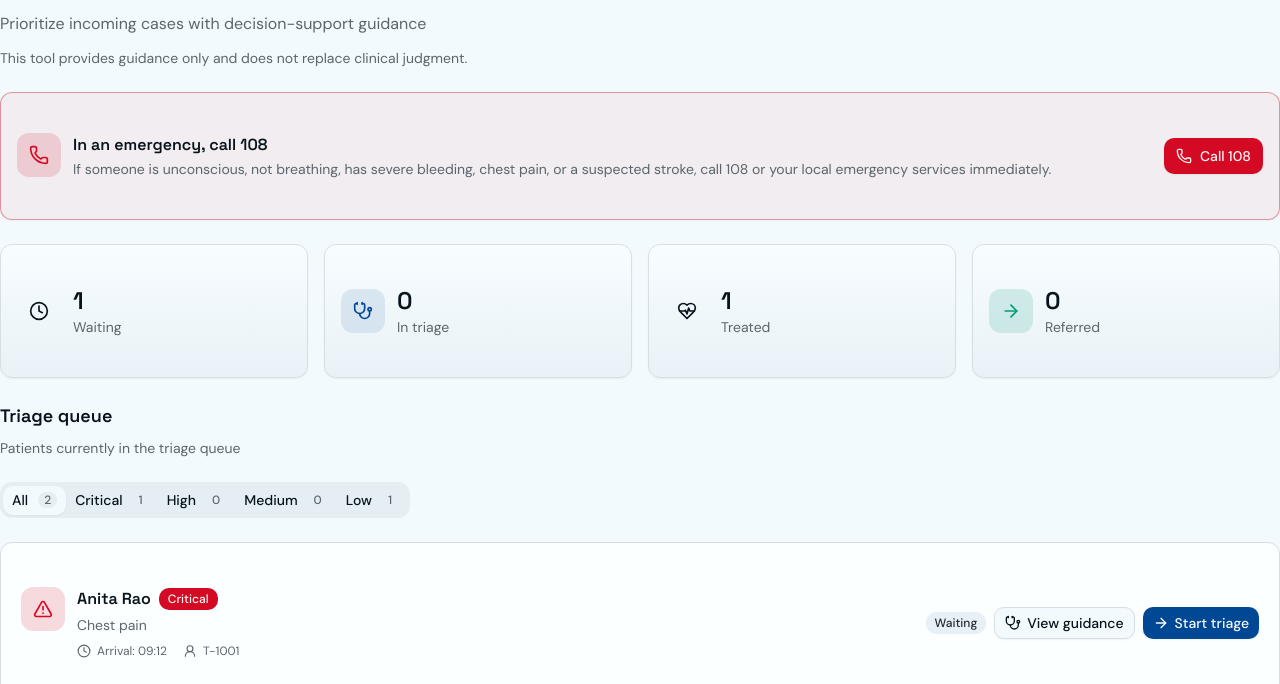
Test case: TriagePage decision support › shows a success state after starting triage on a waiting entry
Step 1. Click the button with test id "triage.start_triage.1" → (1201, 623), box 1143,607 -> 1259,639
(page scrolled)
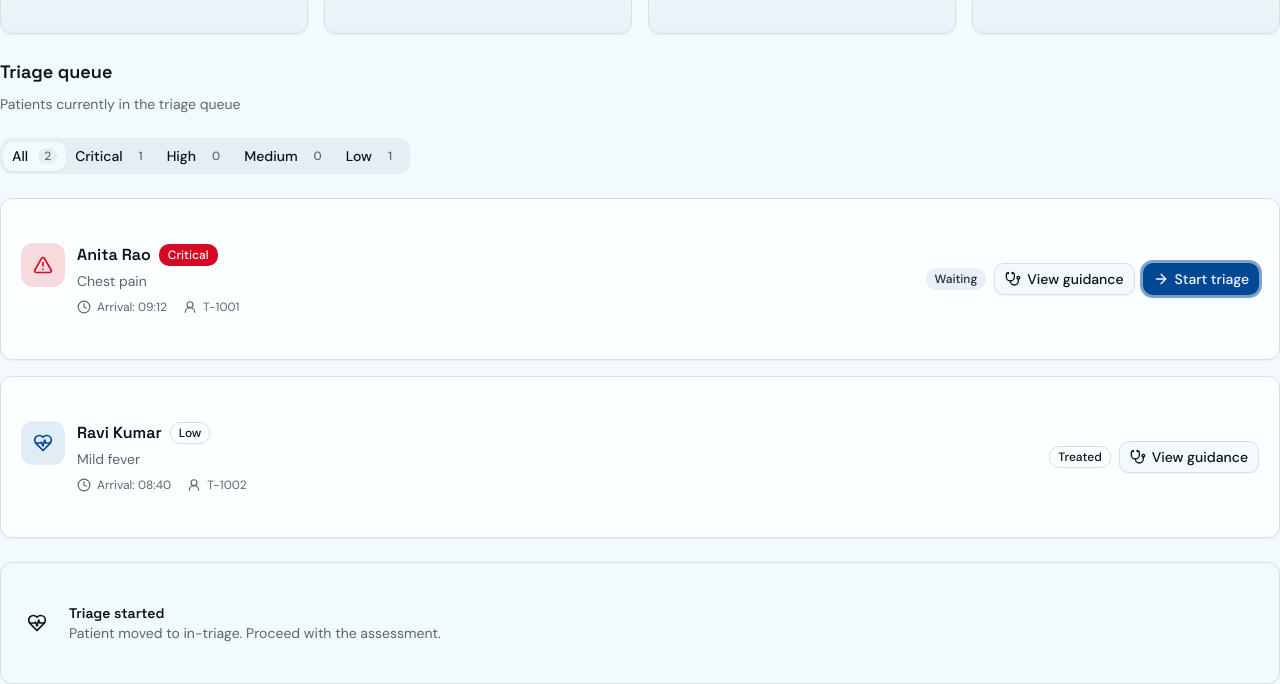
Result: the element with test id "triage.success_state" is shown at 0,562 -> 1279,683
